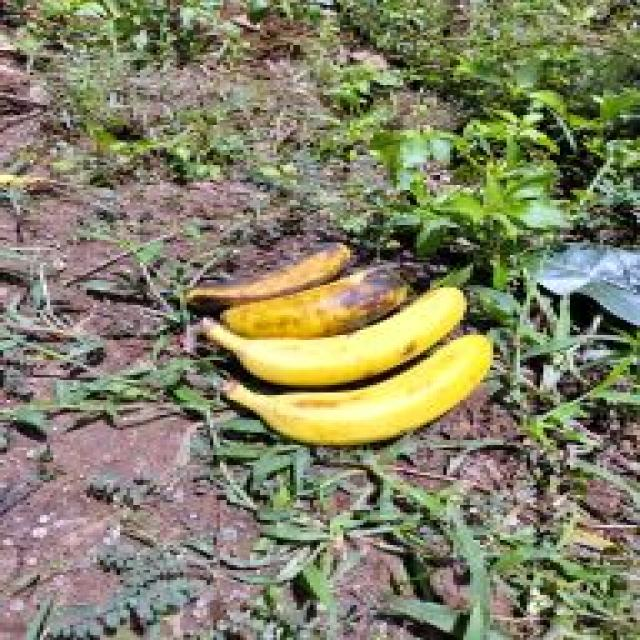Organik: (230, 344, 502, 454), (191, 285, 473, 384), (175, 231, 354, 316), (214, 264, 414, 340)
